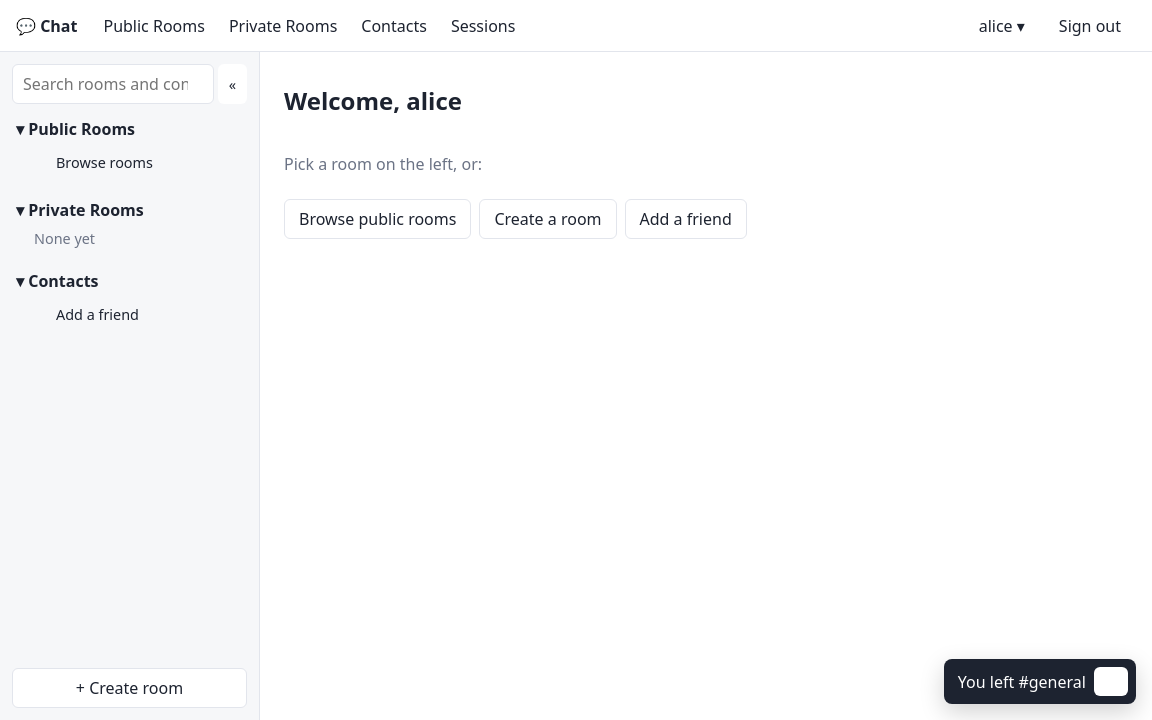
Scenario: create room › shows a taken name under the field
This screenshot has width=1152, height=720.
Click the button "+ Create room": (130, 688) [12,668,247,708]
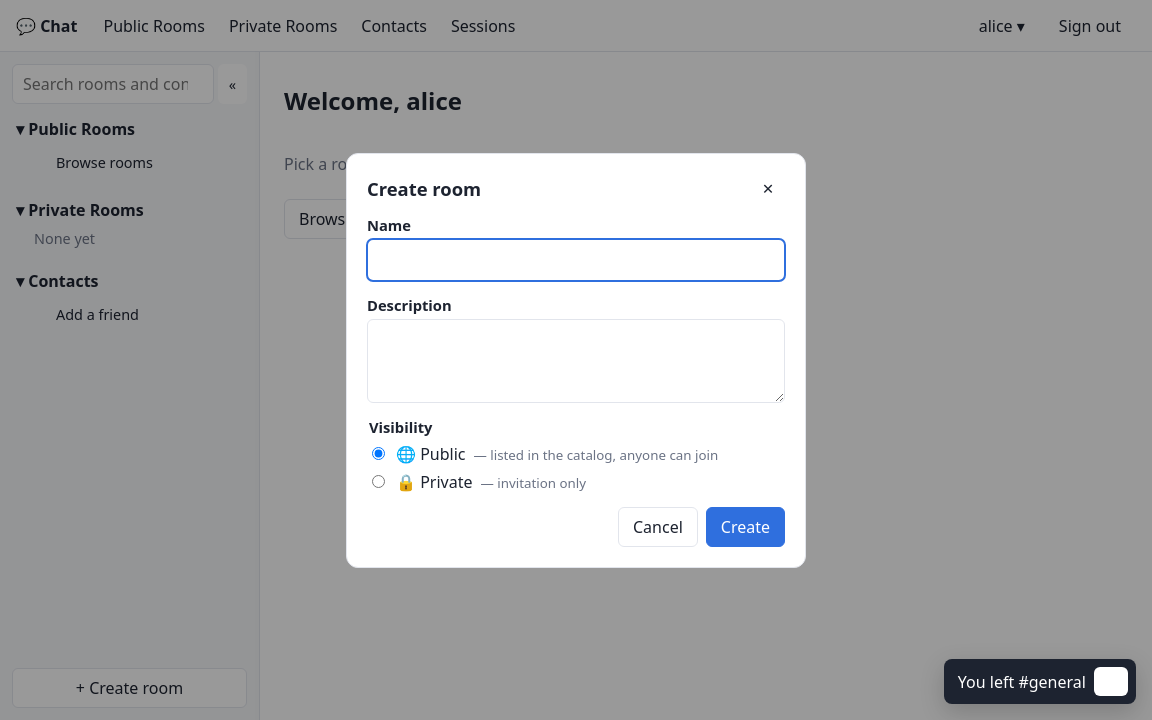
In the field labelled "Name": (576, 260) [367,238,785,280], type " General "
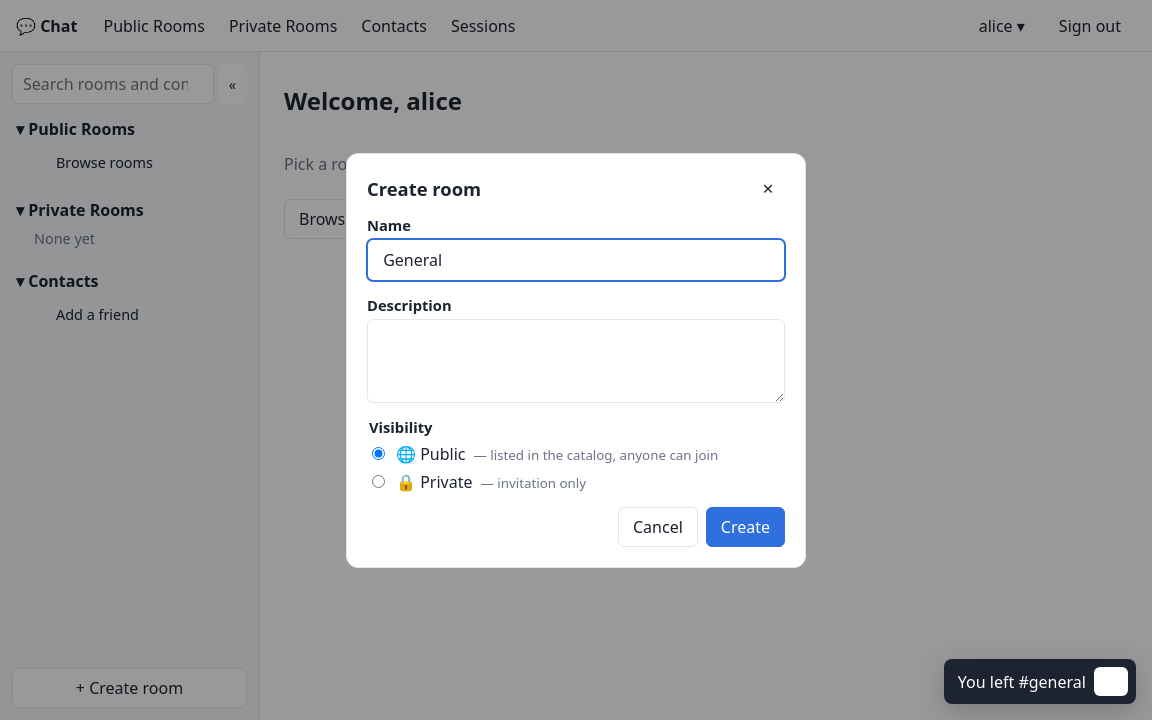
Click the radio button labelled "🔒 Private — invitation only": (378, 481) [372,474,385,488]
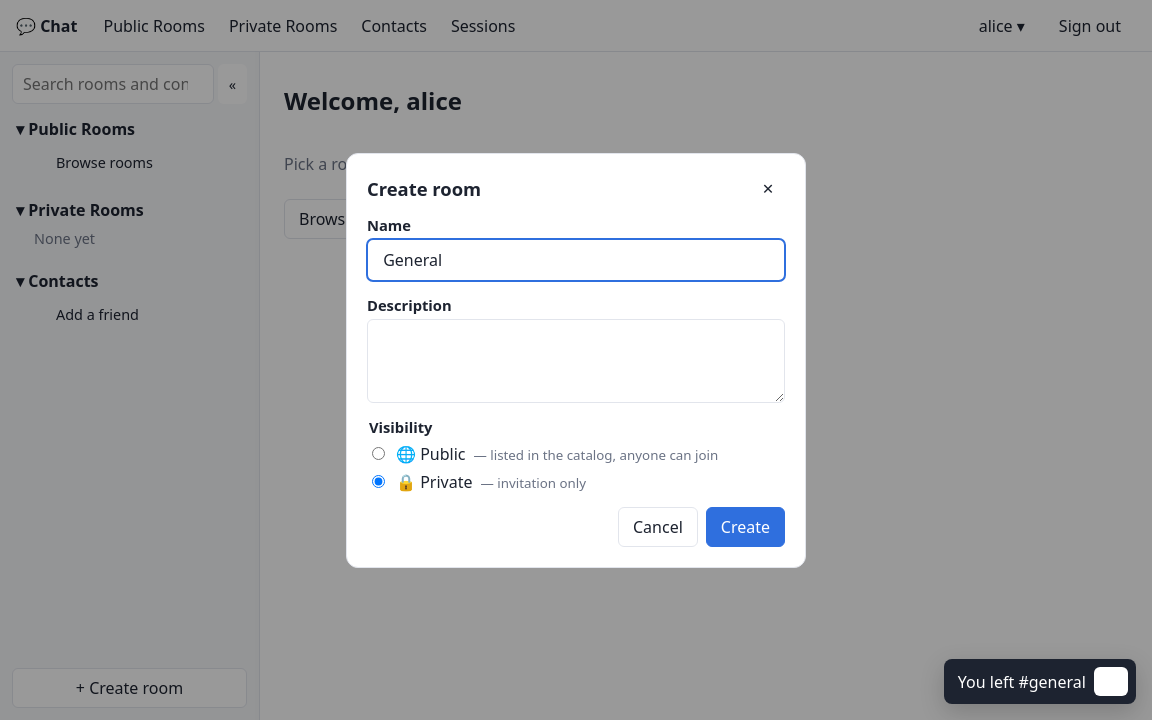
Click the button "Create": (745, 526) [706,506,785,546]
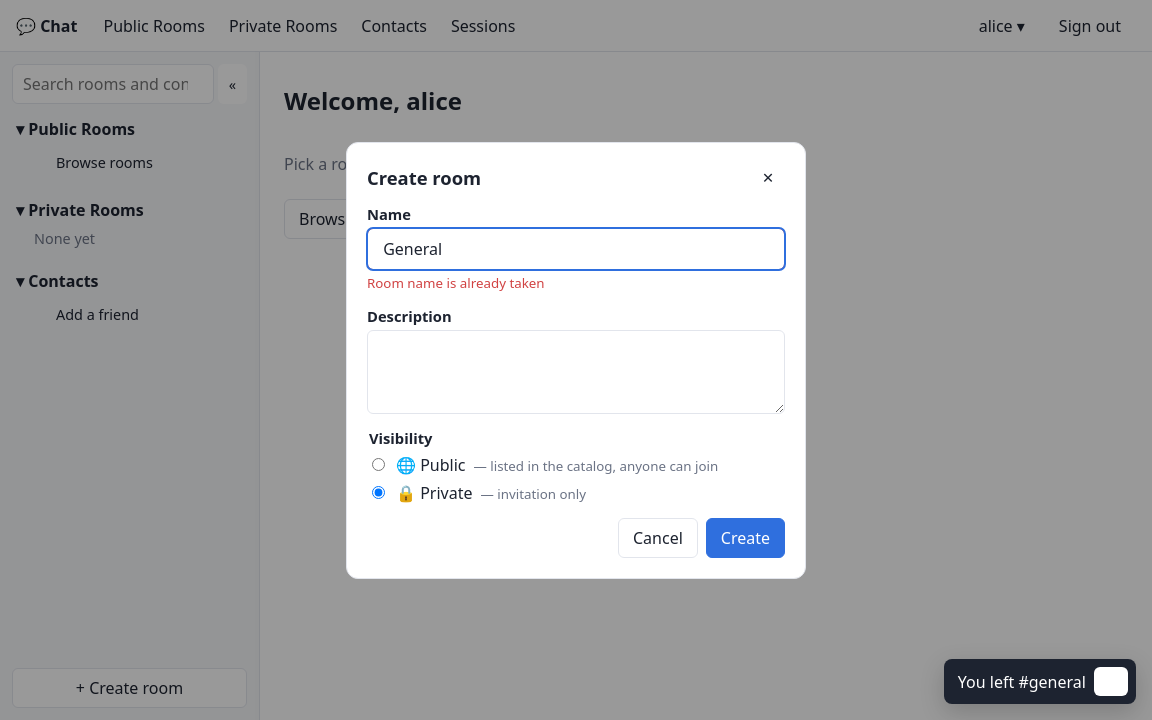
Expected: the text "Room name is already taken" is shown, [367,274,545,292]
